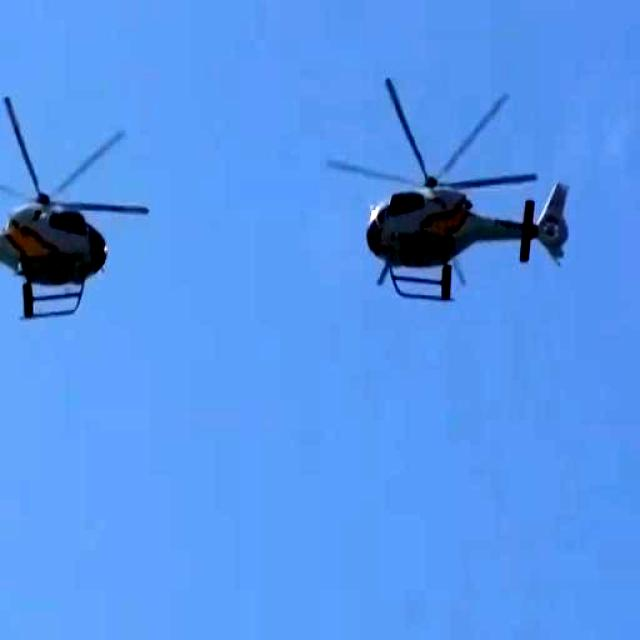drone: (342, 99, 576, 320), (0, 89, 150, 358)
